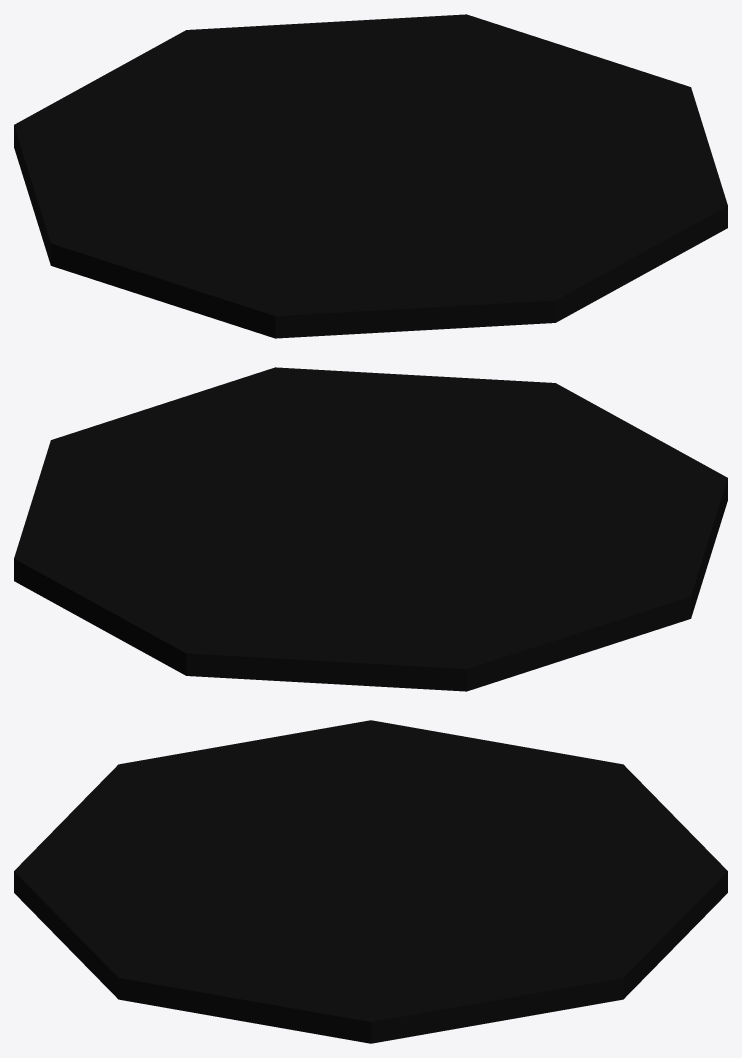
Rendered from Itr_Table1_Top_05.FBX.
3 renders of one model, top to bottom at view 1: azimuth 30°, elevation 25°; view 2: azimuth 150°, elevation 25°; view 3: azimuth 270°, elevation 25°, orthographic. The views are drawn at different scales.
Parts seen in each view (by area): view 1: Itr_Table1_Top_05; view 2: Itr_Table1_Top_05; view 3: Itr_Table1_Top_05.
Part boxes in pixels (x1,y1,x2,y2): Itr_Table1_Top_05: [14, 14, 727, 338]; Itr_Table1_Top_05: [14, 367, 727, 691]; Itr_Table1_Top_05: [14, 720, 727, 1043].
Bounding box in the file's own units: 65.72 × 2.2 × 65.69.
